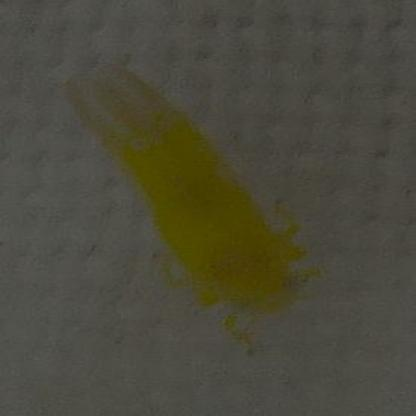green-leafhopper: (58, 54, 310, 320)
